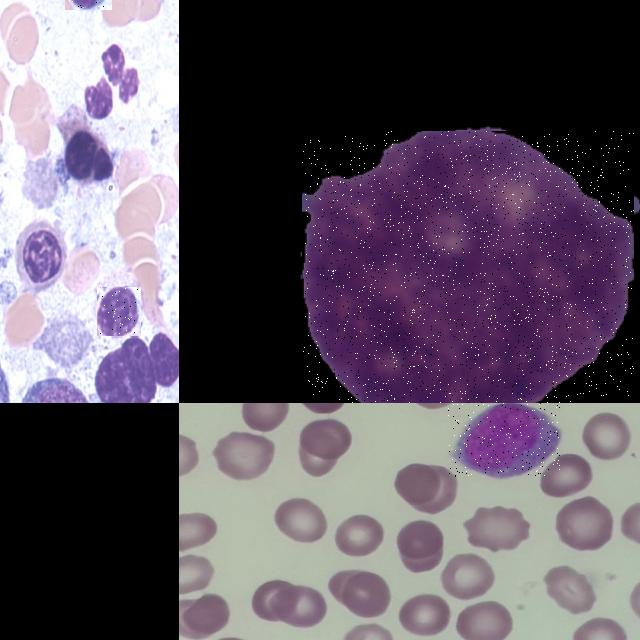ALL Positive Cell: (302, 132, 634, 403), (448, 403, 559, 476), (97, 288, 141, 338), (85, 74, 116, 122)
